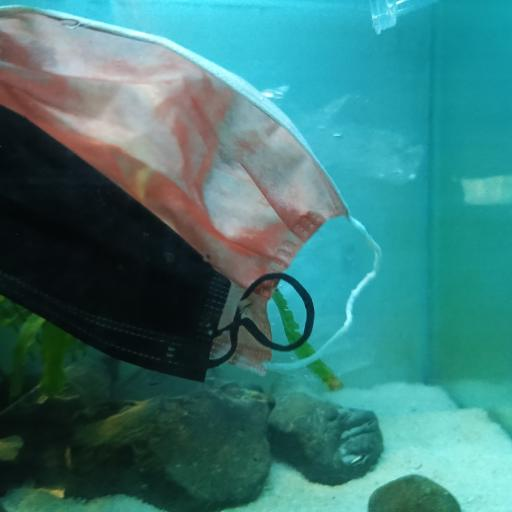mask: (0, 8, 381, 375), (0, 102, 317, 388)
plastic_bag: (261, 80, 430, 194), (367, 0, 428, 42)
